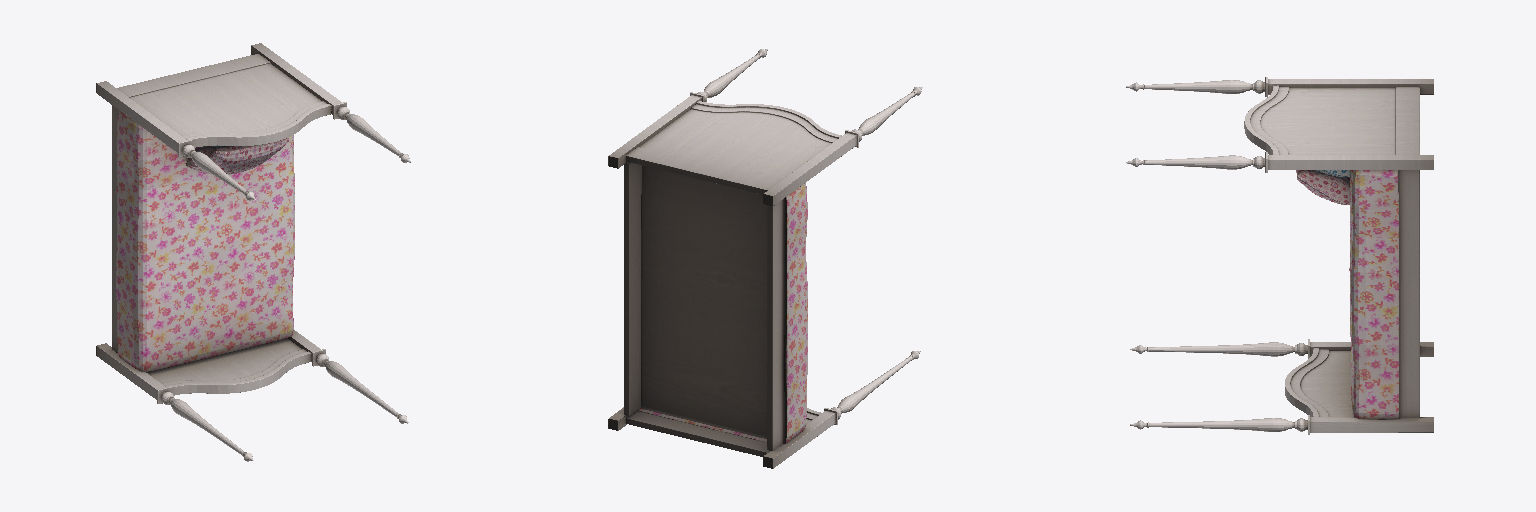
The picture shows the model from 3 angles: view 1: azimuth 30°, elevation 25°; view 2: azimuth 150°, elevation 25°; view 3: azimuth 270°, elevation 25°; orthographic projection.
Parts seen in each view (by area): view 1: 10229_Four_Poster_Bed_Double_v1; view 2: 10229_Four_Poster_Bed_Double_v1; view 3: 10229_Four_Poster_Bed_Double_v1.
Part boxes in pixels (x1,y1,x2,y2): 10229_Four_Poster_Bed_Double_v1: (96,43,410,461); 10229_Four_Poster_Bed_Double_v1: (608,49,922,468); 10229_Four_Poster_Bed_Double_v1: (1126,77,1433,434).
Bounding box in the file's own units: 135 × 212 × 215.
1 materials, 1 textured.